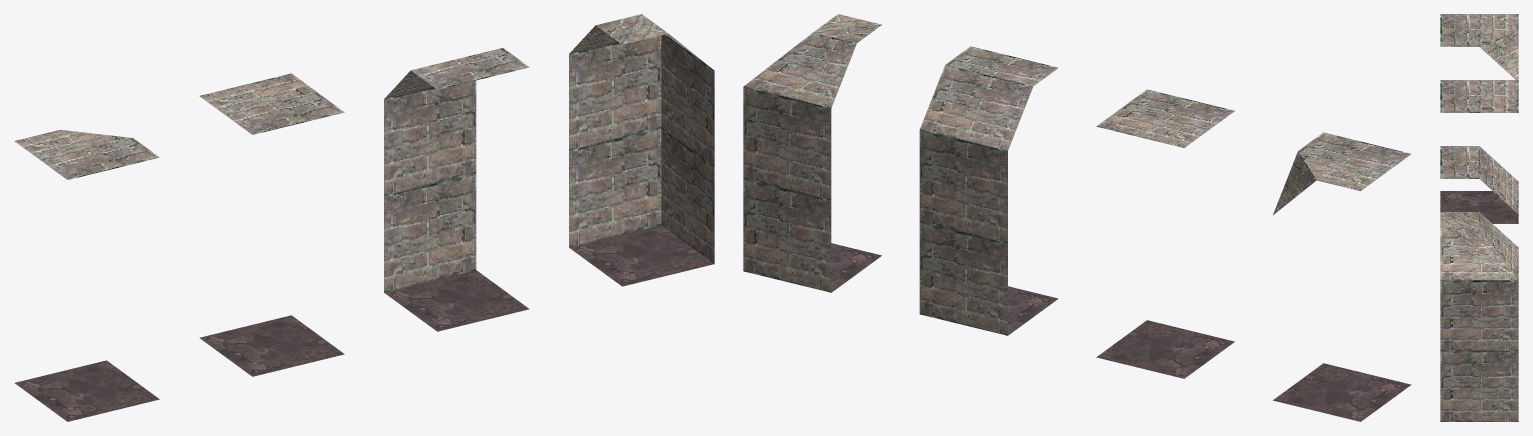
Rendered from Tileset1.glb.
3 views of the same model, side by side, from view 1: azimuth 30°, elevation 25°; view 2: azimuth 150°, elevation 25°; view 3: azimuth 270°, elevation 25° (orthographic). The views are drawn at different scales.
Visible parts, largest first — view 1: corner-in-col, Wall-col, floor-col, corner-out-col; view 2: Wall-col, corner-in-col, corner-out-col, floor-col; view 3: corner-in-col, corner-out-col, Wall-col, floor-col.
Part boxes in pixels (<box>): corner-in-col: <box>569,14,714,286</box>; Wall-col: <box>384,48,529,331</box>; floor-col: <box>199,73,344,376</box>; corner-out-col: <box>14,130,159,421</box>; Wall-col: <box>919,46,1058,335</box>; corner-in-col: <box>743,14,881,292</box>; corner-out-col: <box>1273,132,1411,421</box>; floor-col: <box>1096,89,1234,378</box>; corner-in-col: <box>1440,212,1518,421</box>; corner-out-col: <box>1440,14,1518,223</box>; Wall-col: <box>1440,146,1518,213</box>; floor-col: <box>1440,80,1518,112</box>.
Bounding box in the file's own units: 7 × 2.5 × 1.
Materials: 1 (1 with a texture image).
